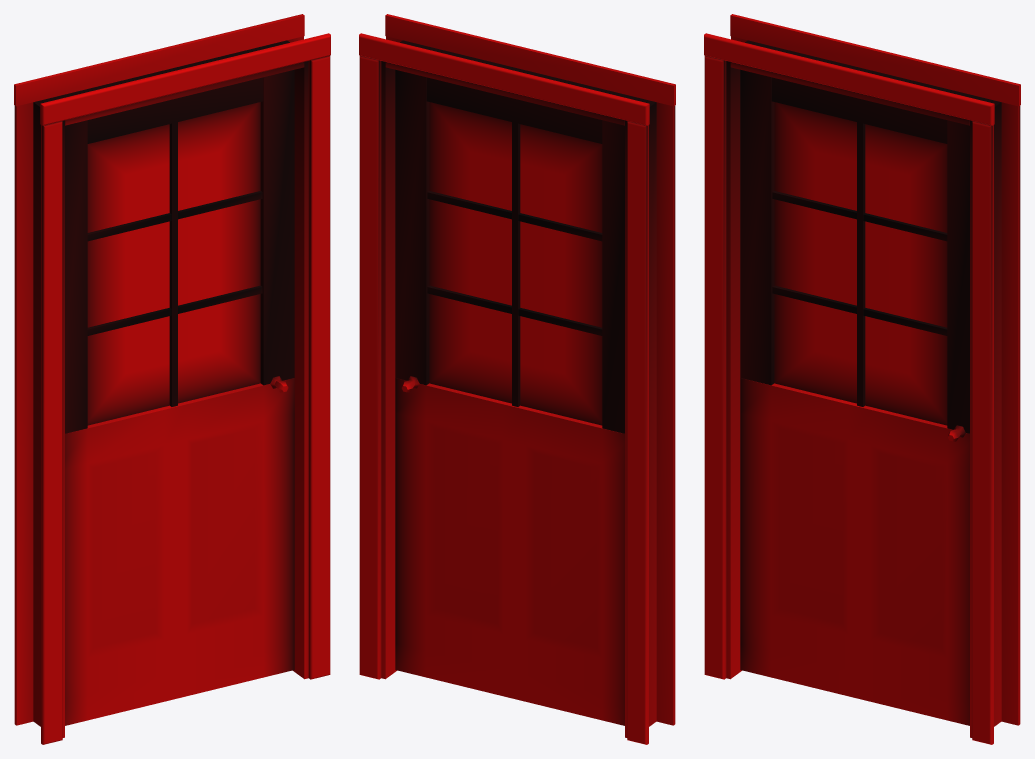
Rendered from CI_Shell_Door_Glazed.glb.
3 renders of one model, left to right at view 1: azimuth 30°, elevation 25°; view 2: azimuth 150°, elevation 25°; view 3: azimuth 330°, elevation 25°, orthographic.
Visible parts, largest first — view 1: CI_Shell_Door_Glazed; view 2: CI_Shell_Door_Glazed; view 3: CI_Shell_Door_Glazed.
Part boxes in pixels (left/top/right/bottom): CI_Shell_Door_Glazed: left=14, top=14, right=330, bottom=744; CI_Shell_Door_Glazed: left=359, top=14, right=675, bottom=744; CI_Shell_Door_Glazed: left=704, top=14, right=1020, bottom=744.
Bounding box in the file's own units: 1.02 × 2.17 × 0.186.
